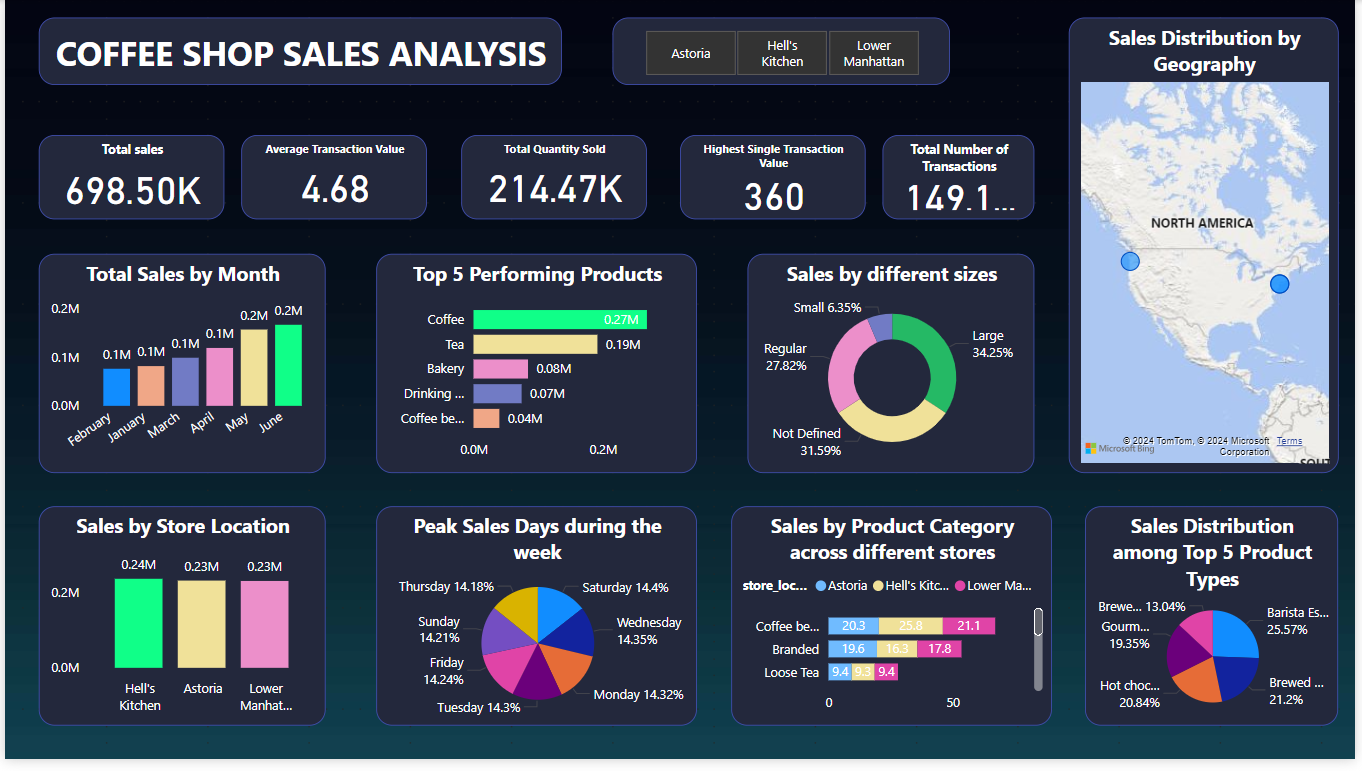

This screenshot's page, from the dashboard's own definition file:
{"tool":"powerbi","page":{"name":"Page 1","canvas":[1280,720],"ordinal":0},"visuals":[{"type":"columnChart","title":"Total Sales by Month","fields":{"Category":["Coffee Shop Sales.Month Name"],"Y":["Sum(Coffee Shop Sales.Total_Bill)"]},"box":[32,240,272,208],"z":0},{"type":"columnChart","title":"Sales by Store Location","fields":{"Category":["Coffee Shop Sales.store_location"],"Y":["Sum(Coffee Shop Sales.Total_Bill)"]},"box":[32,480,272,208],"z":1000},{"type":"barChart","title":"Top 5 Performing Products","fields":{"Category":["Coffee Shop Sales.product_category"],"Y":["Sum(Coffee Shop Sales.Total_Bill)"]},"box":[352,240,304,208],"z":2000},{"type":"pieChart","title":"Peak Sales Days during the week","fields":{"Y":["Avg(Coffee Shop Sales.Total_Bill)"],"Category":["Coffee Shop Sales.Day Name"]},"box":[352,480,304,208],"z":3000},{"type":"map","title":"Sales Distribution by Geography","fields":{"Category":["Coffee Shop Sales.store_location"],"Size":["Sum(Coffee Shop Sales.Total_Bill)"]},"box":[1008,16,256,432],"z":4000},{"type":"barChart","title":"Sales by Product Category across different stores","fields":{"Category":["Coffee Shop Sales.product_category"],"Series":["Coffee Shop Sales.store_location"],"Y":["Avg(Coffee Shop Sales.Total_Bill)"]},"box":[688,480,304,208],"z":5000},{"type":"pieChart","title":"Sales Distribution among Top 5 Product Types","fields":{"Category":["Coffee Shop Sales.product_type"],"Y":["Sum(Coffee Shop Sales.Total_Bill)"]},"box":[1024,480,240,208],"z":6000},{"type":"donutChart","title":"Sales by different sizes","fields":{"Category":["Coffee Shop Sales.Size"],"Y":["Sum(Coffee Shop Sales.Total_Bill)"]},"box":[704,240,272,208],"z":7000},{"type":"card","title":"Total sales","fields":{"Values":["Sum(Coffee Shop Sales.Total_Bill)"]},"box":[32,128,176,80],"z":8000},{"type":"card","title":"Average Transaction Value","fields":{"Values":["Avg(Coffee Shop Sales.Total_Bill)"]},"box":[224,128,176,80],"z":9000},{"type":"card","title":"Total Quantity Sold","fields":{"Values":["Sum(Coffee Shop Sales.transaction_qty)"]},"box":[432,128,176,80],"z":10000},{"type":"card","title":"Highest Single Transaction Value","fields":{"Values":["Max(Coffee Shop Sales.Total_Bill)"]},"box":[640,128,176,80],"z":11000},{"type":"slicer","fields":{"Values":["Coffee Shop Sales.store_location"]},"box":[576,16,320,64],"z":12000},{"type":"textbox","box":[32,16,496,64],"z":13000},{"type":"card","title":"Total Number of Transactions","fields":{"Values":["Coffee Shop Sales.Number of Transactions"]},"box":[832,128,144,80],"z":13001}]}

Visuals, with their boxes in screenshot pixels (x1, y1, x2, y2), scaled from the page's 1280x720 canvas onto the 1362x771 screenshot:
"Total Sales by Month" columnChart: detection(34, 257, 323, 480)
"Sales by Store Location" columnChart: detection(34, 514, 323, 737)
"Top 5 Performing Products" barChart: detection(375, 257, 698, 480)
"Peak Sales Days during the week" pieChart: detection(375, 514, 698, 737)
"Sales Distribution by Geography" map: detection(1073, 17, 1345, 480)
"Sales by Product Category across different stores" barChart: detection(732, 514, 1056, 737)
"Sales Distribution among Top 5 Product Types" pieChart: detection(1090, 514, 1345, 737)
"Sales by different sizes" donutChart: detection(749, 257, 1039, 480)
"Total sales" card: detection(34, 137, 221, 223)
"Average Transaction Value" card: detection(238, 137, 426, 223)
"Total Quantity Sold" card: detection(460, 137, 647, 223)
"Highest Single Transaction Value" card: detection(681, 137, 868, 223)
slicer - Coffee Shop Sales.store_location: detection(613, 17, 953, 86)
textbox: detection(34, 17, 562, 86)
"Total Number of Transactions" card: detection(885, 137, 1039, 223)
